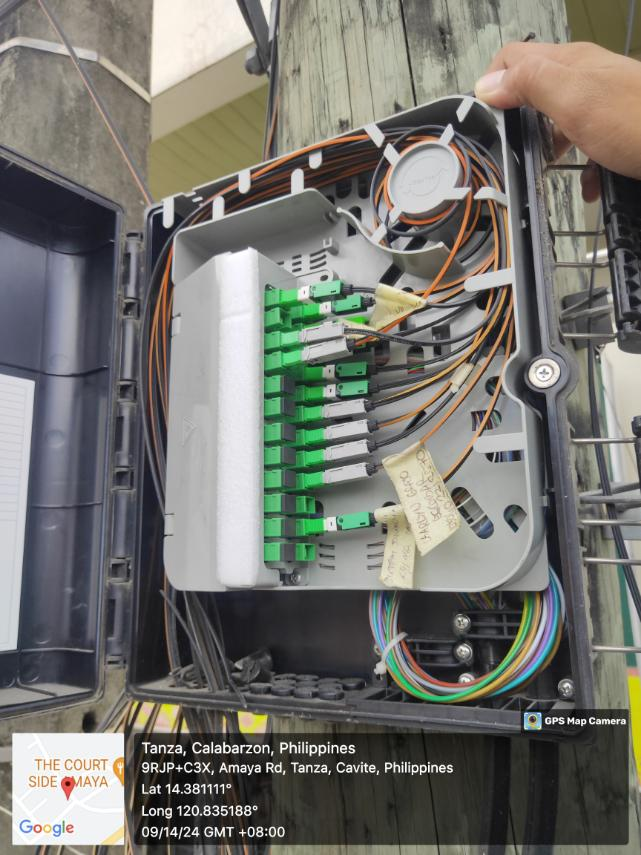no dust cap: (303, 543, 316, 561), (279, 308, 291, 327), (304, 497, 316, 514)
occupied: (280, 275, 363, 304), (281, 335, 357, 366), (304, 437, 381, 467), (302, 459, 380, 488), (303, 507, 382, 534), (306, 417, 381, 444), (280, 320, 352, 346), (303, 379, 380, 401), (302, 294, 375, 317), (304, 360, 379, 380), (303, 398, 374, 419), (304, 332, 371, 352), (302, 317, 369, 336)
vacant: (281, 542, 295, 561), (282, 517, 296, 536), (282, 495, 296, 514), (282, 468, 296, 487), (282, 398, 296, 417), (282, 375, 296, 394), (282, 447, 296, 465), (282, 423, 296, 441)
